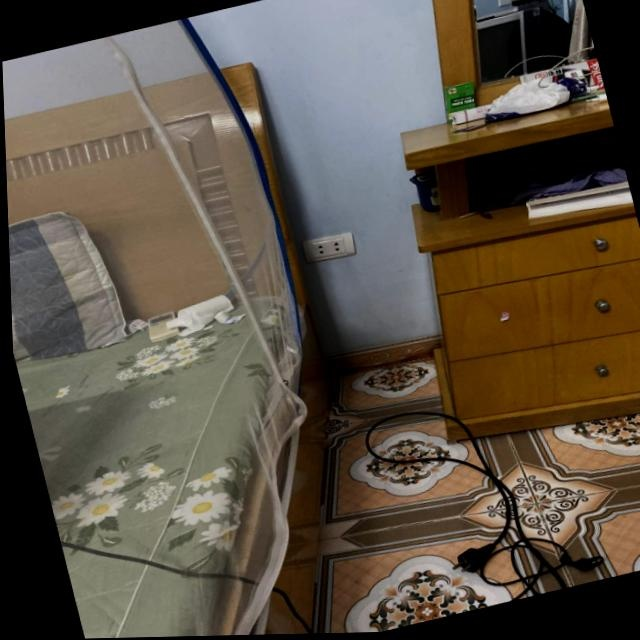outlet: (300, 229, 358, 265)
